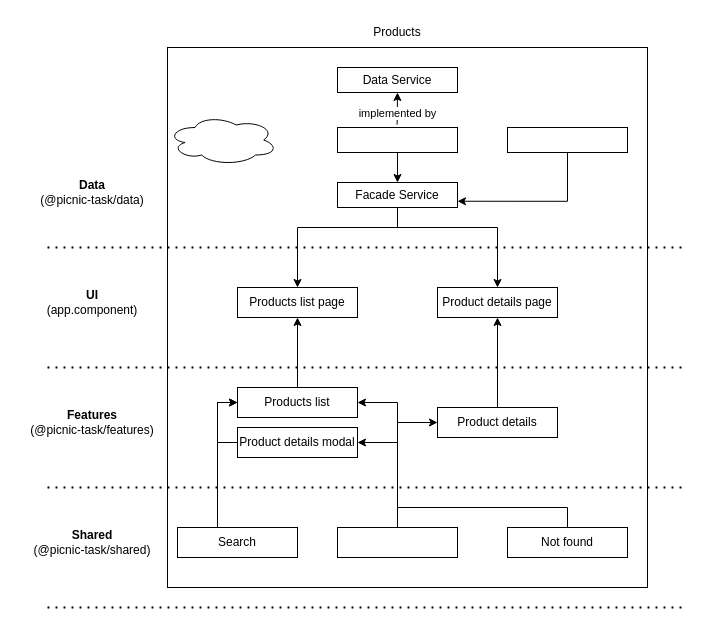
This 706x626 diagram has some shape labels left out. Here are the shapes that lost their labels. From the top down, the centre of each, then its label:
point 222,139: Entities
point 397,139: Adapter Data Service
point 567,139: Store
point 397,542: Product card
